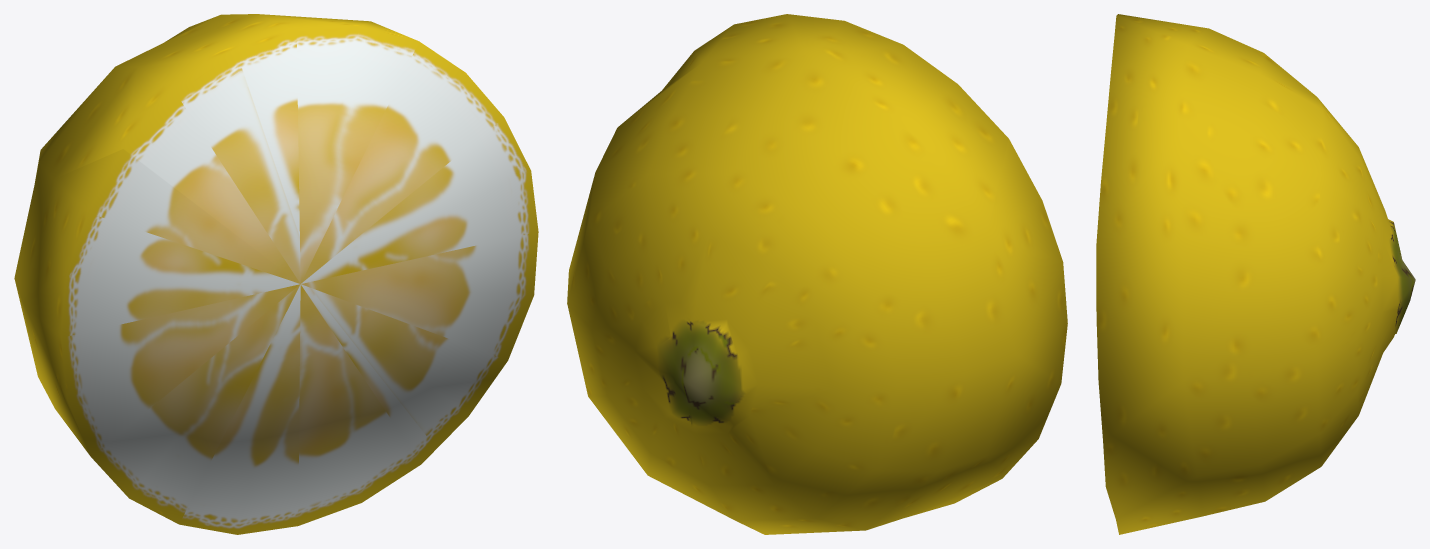
Rendered from orangeStemHalf.fbx.
3 renders of one model, left to right at view 1: azimuth 30°, elevation 25°; view 2: azimuth 150°, elevation 25°; view 3: azimuth 270°, elevation 25°, orthographic. The views are drawn at different scales.
Parts seen in each view (by area): view 1: orangeStemHalf; view 2: orangeStemHalf; view 3: orangeStemHalf.
Boxes of the visible parts, x1=… form: orangeStemHalf: x1=14, y1=14, x2=538, y2=534; orangeStemHalf: x1=567, y1=14, x2=1067, y2=534; orangeStemHalf: x1=1096, y1=14, x2=1415, y2=534.
Size of the model in its own units: 21.73 by 22.26 by 13.65.
